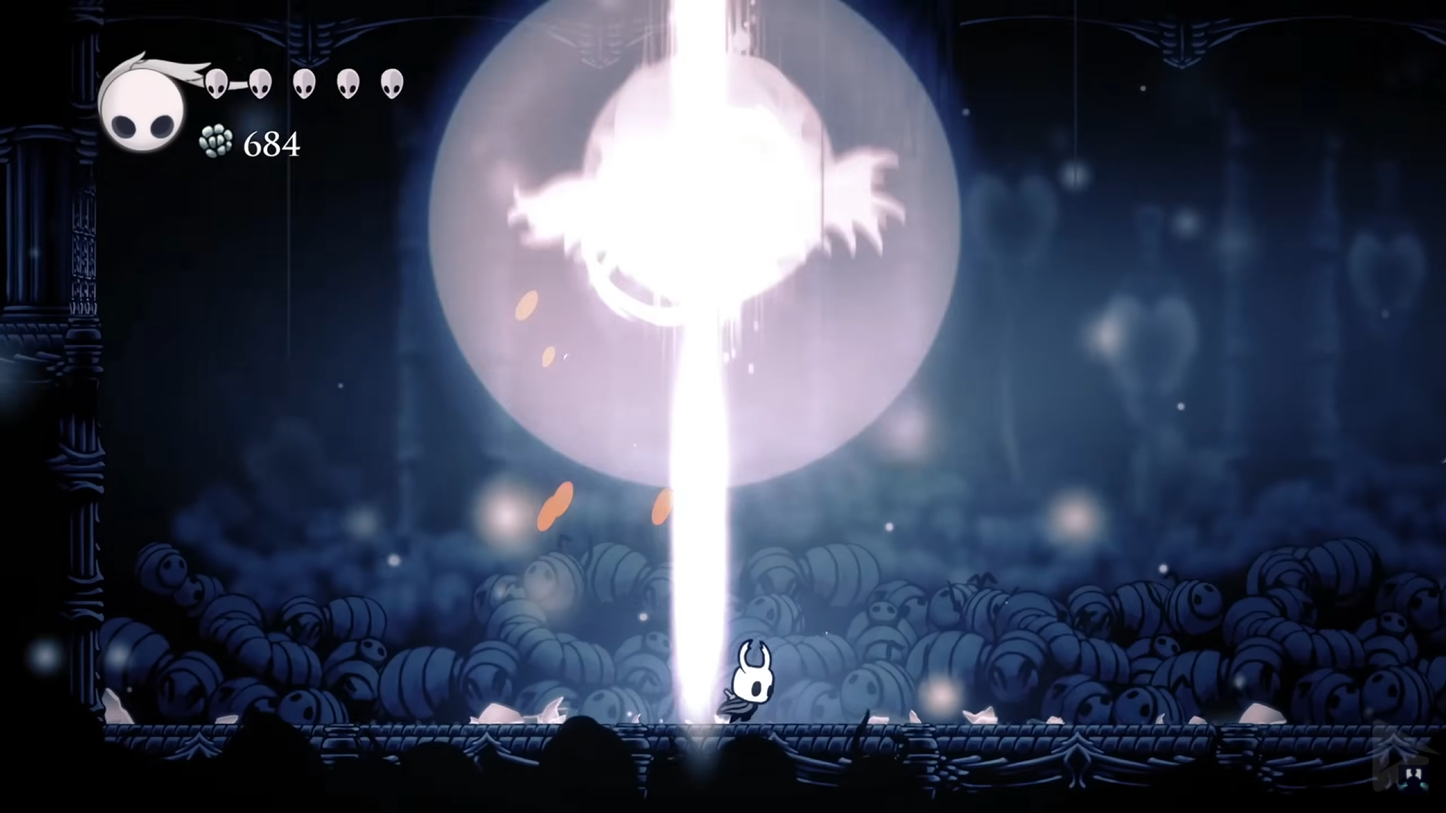HK: (721, 635, 777, 726)
